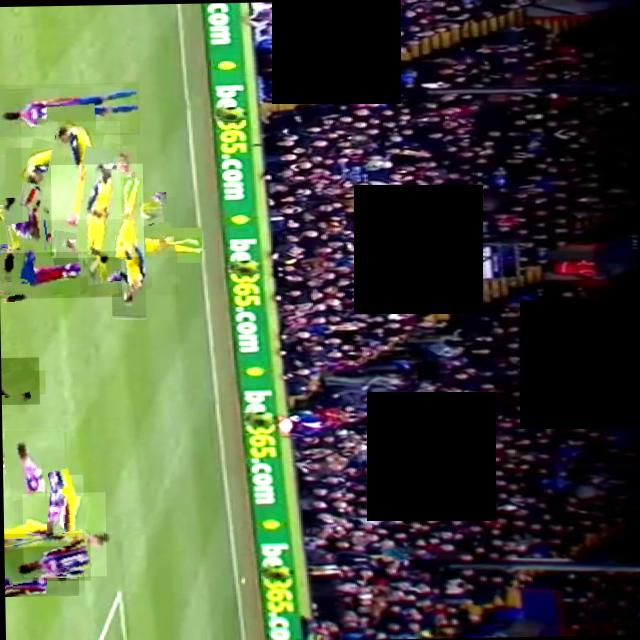soccer-player: (20, 120, 121, 220), (78, 196, 178, 294), (50, 162, 144, 257), (0, 81, 140, 135), (22, 491, 106, 576), (0, 249, 121, 297), (2, 426, 70, 496), (4, 532, 90, 580), (4, 544, 79, 596), (0, 198, 51, 250), (1, 356, 40, 404), (0, 243, 33, 281)
